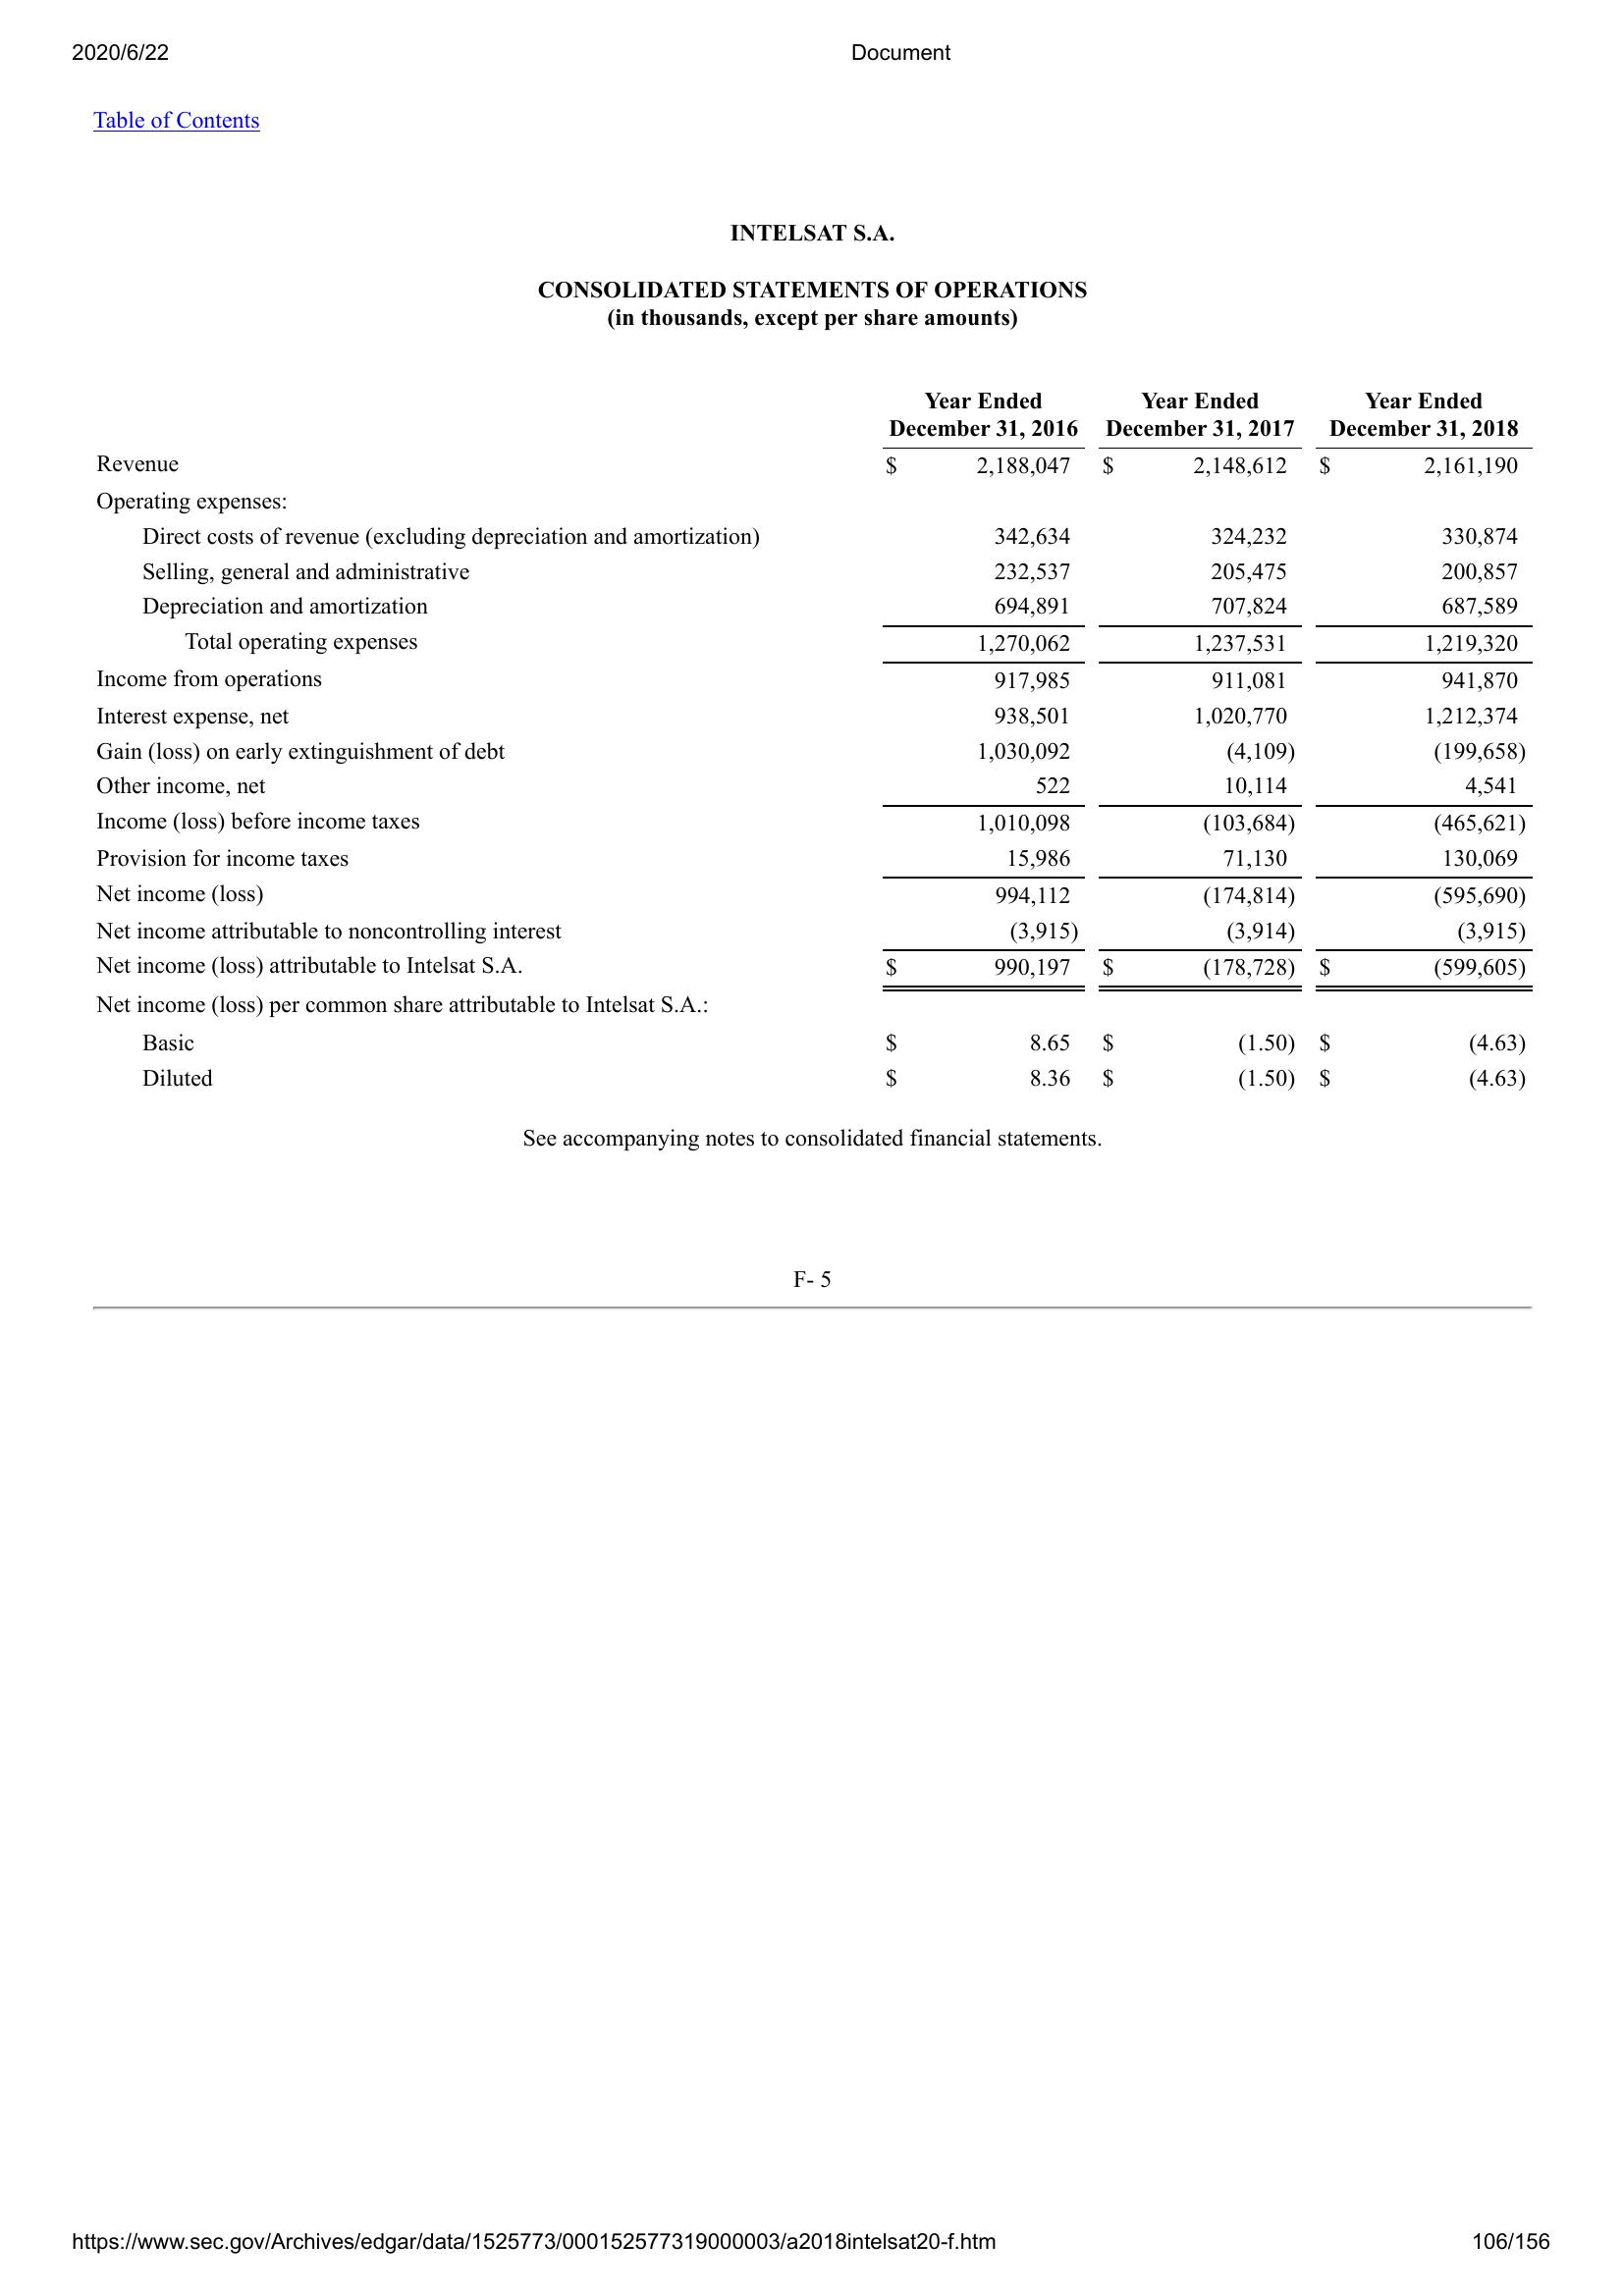table: (77, 391, 1535, 1097)
